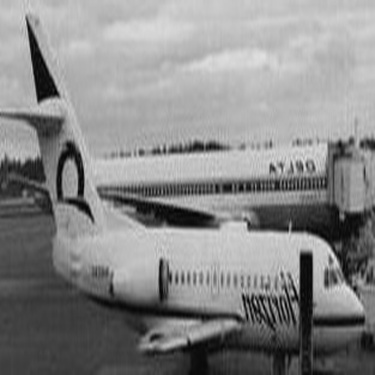airplane: (3, 16, 366, 359)
